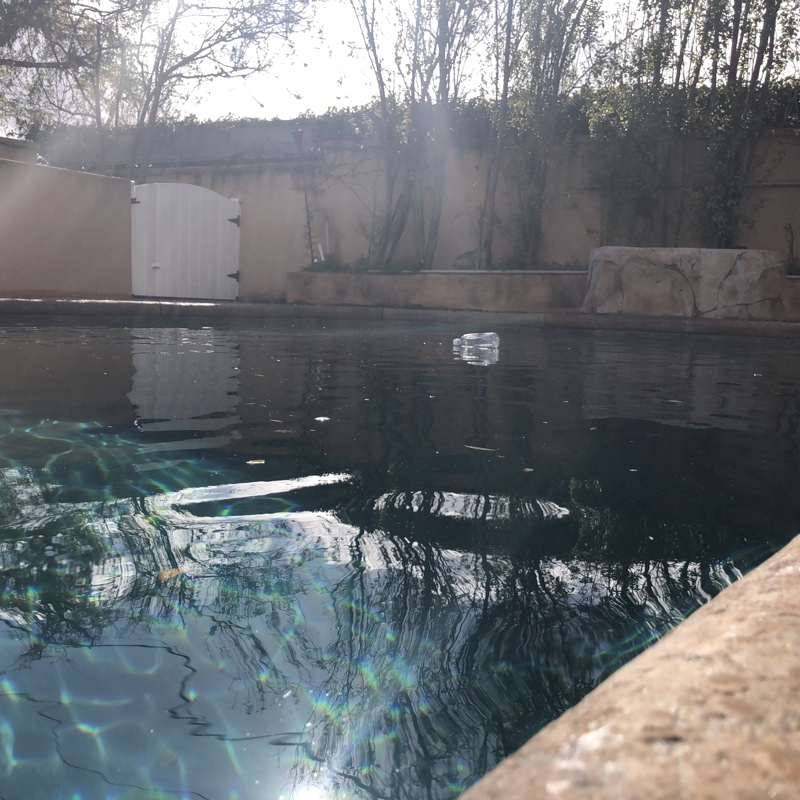Plastic Bottle: (448, 332, 497, 348)
